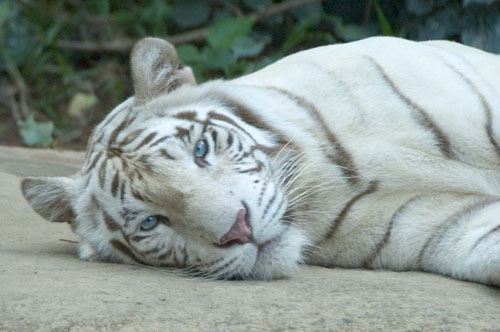Tigre: (40, 29, 470, 275)
